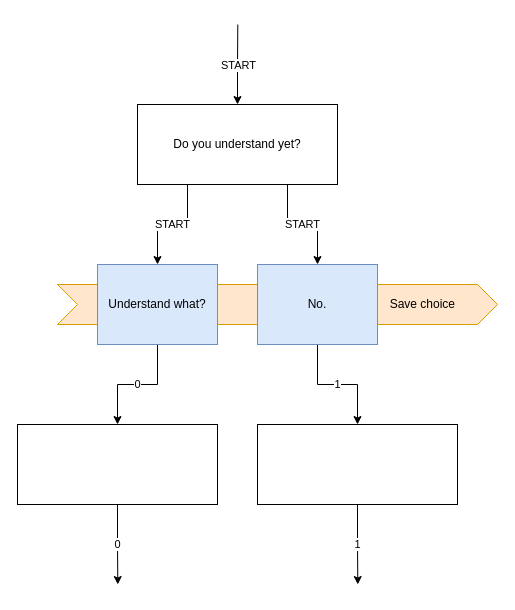
This 515x610 diagram has some shape labels left out. The centre of each missing label's shape, as x and y in pixels:
At least you're honest.: point (357, 464)
You're not ready for that. Keep moving.: point (117, 464)
